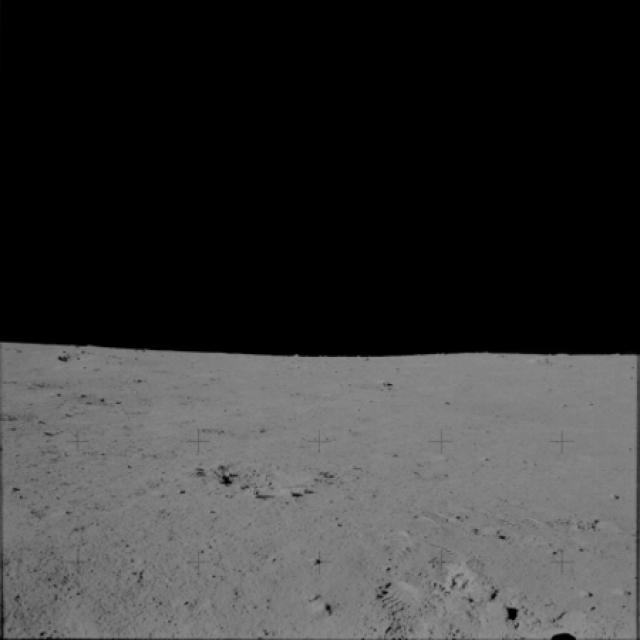crater: (188, 448, 336, 515)
